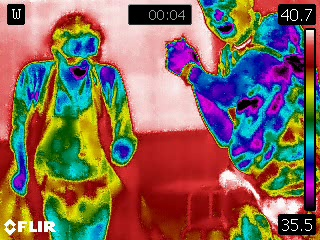human: (162, 1, 320, 240), (8, 11, 138, 240)
